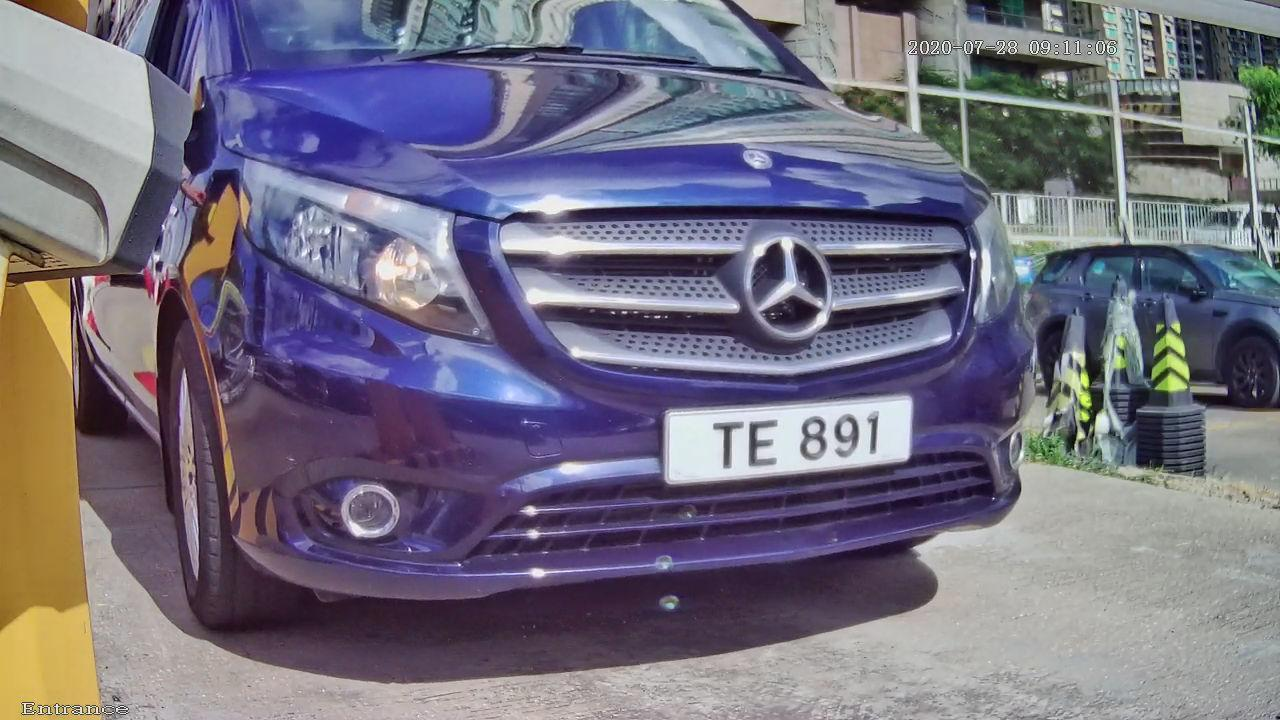privatecar: (1, 1, 1218, 692)
